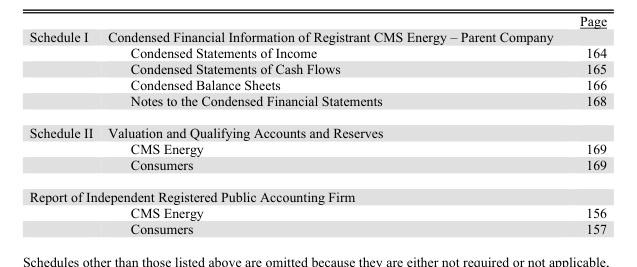table: (28, 28, 606, 235)
table column: (99, 28, 568, 235), (28, 28, 99, 235), (568, 28, 606, 235)
table column header: (28, 28, 606, 180)
table projected row header: (28, 180, 606, 204)
table row: (28, 28, 606, 180), (28, 180, 606, 204), (28, 204, 606, 220), (28, 220, 606, 235)
